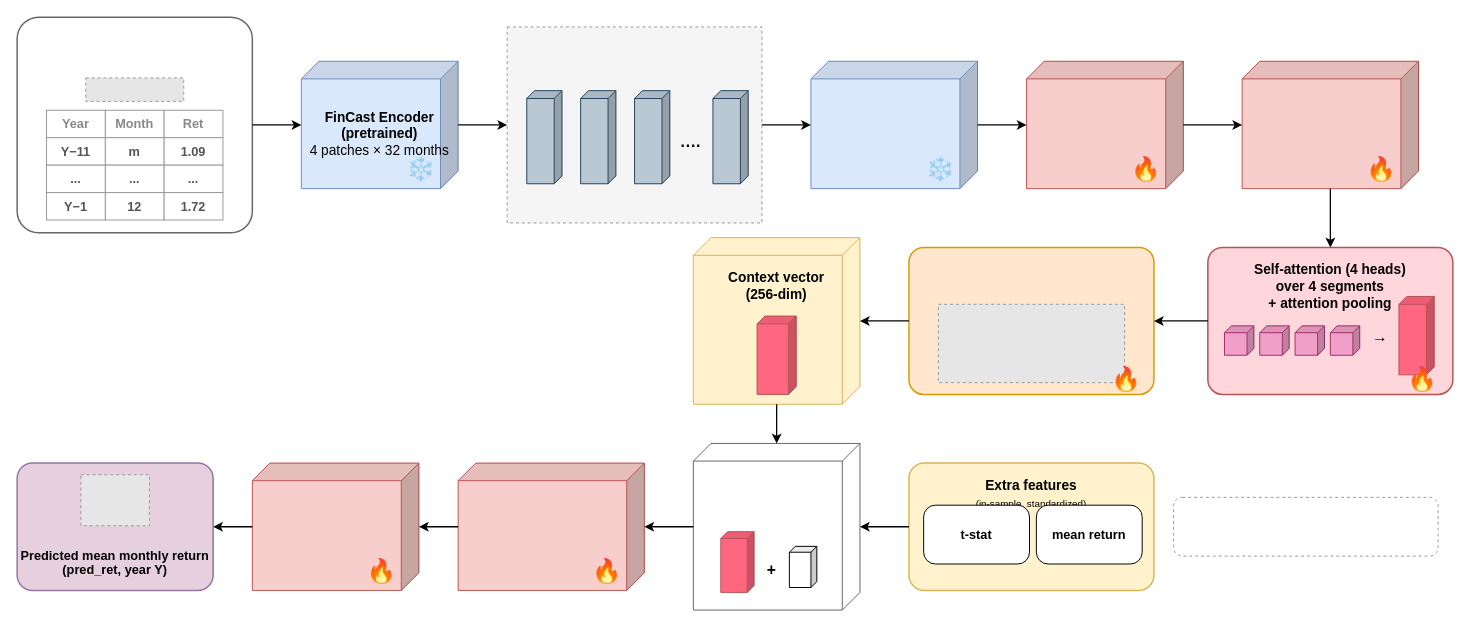
Image size: 1471x628. Some labels were removed from this diagram. Grey dashed boxes stand in for pictures. Each missing label, with the box of its shape:
Bi-LSTM 128 × 2 directions [4 × 256]: (1241, 60, 1419, 189)
Feature concatenation (258-dim): (692, 442, 860, 610)
Fully connected (1) Linear: (251, 462, 419, 590)
Fully connected (64) ReLU · BatchNorm Dropout 0.3: (457, 462, 644, 590)
Hidden sequence [4 × 1280]: (506, 26, 762, 223)
ISAB (Set Transformer) 64 inducing points · all signals of year Y: (908, 246, 1154, 395)
LayerNorm [4 × 16]: (1026, 60, 1183, 189)
Long-short return per signal (128 months before Y): (16, 16, 253, 233)
PCA-16 (whitened) fit on years ≤ 1982 clip [−5, 5] [4 × 16]: (810, 60, 978, 189)
❄️ Frozen / fit-only 🔥 Trainable: (1173, 496, 1438, 556)
